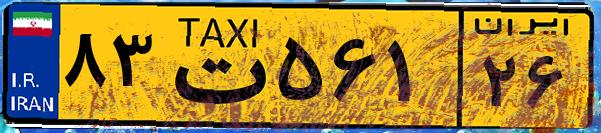1: (385, 28, 445, 110)
2: (475, 38, 525, 113)
3: (110, 28, 158, 98)
5: (270, 28, 330, 110)
6: (330, 28, 385, 110), (525, 38, 570, 115)
8: (57, 26, 110, 100)
ت: (158, 12, 270, 120)
